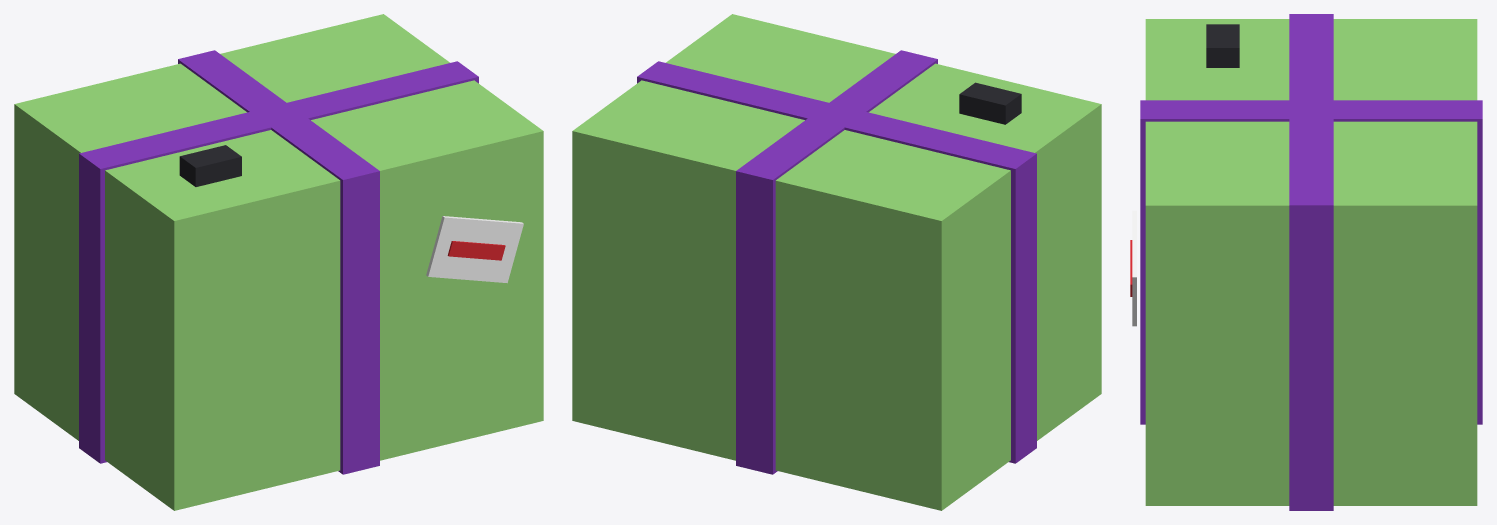
The model's file is tagged_gift.glb.
The picture shows the model from 3 angles, left to right: view 1: azimuth 30°, elevation 25°; view 2: azimuth 150°, elevation 25°; view 3: azimuth 270°, elevation 25°; orthographic projection. The views are drawn at different scales.
Visible parts, largest first — view 1: box_tagged_paper, ribbon_tagged_ribbon, tag_tagged_tag, alarm_tagged_alarm, tag_price_tagged_price; view 2: box_tagged_paper, ribbon_tagged_ribbon, alarm_tagged_alarm; view 3: box_tagged_paper, ribbon_tagged_ribbon, alarm_tagged_alarm, tag_tagged_tag.
Part boxes in pixels (left/top/right/bottom): box_tagged_paper: left=14, top=14, right=543, bottom=510; ribbon_tagged_ribbon: left=79, top=50, right=478, bottom=474; tag_tagged_tag: left=426, top=216, right=523, bottom=283; alarm_tagged_alarm: left=179, top=145, right=241, bottom=186; tag_price_tagged_price: left=447, top=241, right=505, bottom=260; box_tagged_paper: left=572, top=14, right=1101, bottom=510; ribbon_tagged_ribbon: left=637, top=50, right=1036, bottom=474; alarm_tagged_alarm: left=959, top=82, right=1021, bottom=124; box_tagged_paper: left=1145, top=19, right=1477, bottom=505; ribbon_tagged_ribbon: left=1140, top=14, right=1482, bottom=510; alarm_tagged_alarm: left=1206, top=24, right=1239, bottom=67; tag_tagged_tag: left=1132, top=210, right=1136, bottom=326.
Size of the model in its own units: 0.41 by 0.3225 by 0.319.
